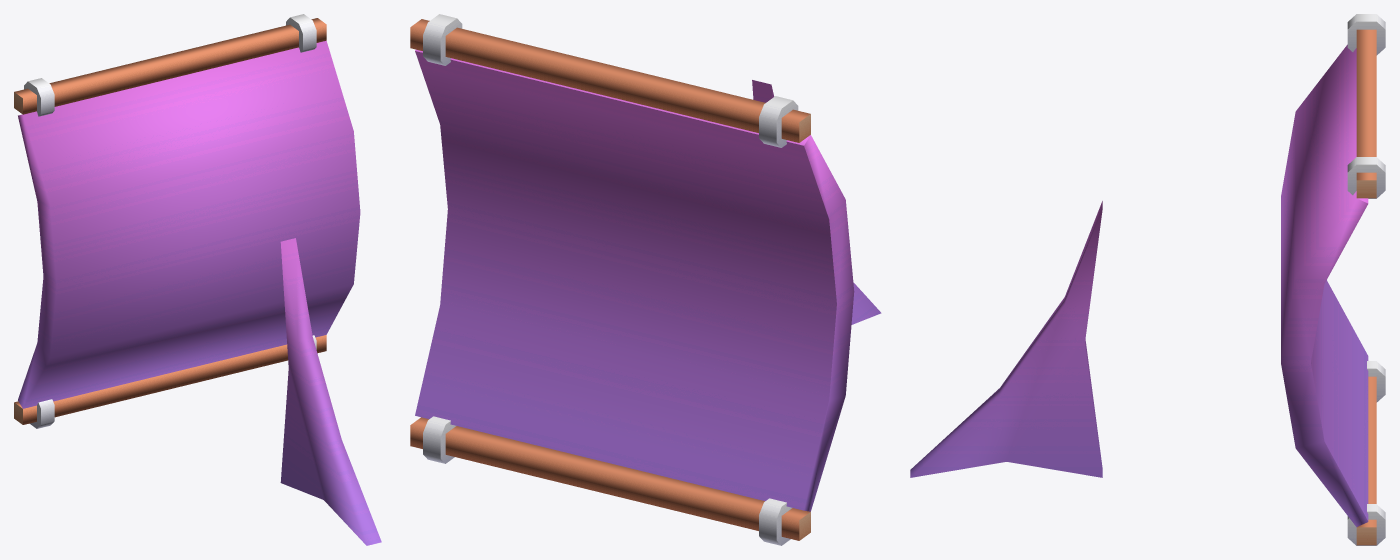
File: sail_pink.glb
The picture shows the model from 3 angles, left to right: view 1: azimuth 30°, elevation 25°; view 2: azimuth 150°, elevation 25°; view 3: azimuth 270°, elevation 25°; orthographic projection. The views are drawn at different scales.
Visible parts, largest first — view 1: sail-a_pink; view 2: sail-a_pink; view 3: sail-a_pink.
Boxes of the visible parts, left/top/right/bottom form: sail-a_pink: left=14, top=14, right=381, bottom=545; sail-a_pink: left=410, top=14, right=881, bottom=545; sail-a_pink: left=910, top=14, right=1385, bottom=545.
Bounding box in the file's own units: 4.4 × 4.76 × 5.33.
1 material, 1 textured.
